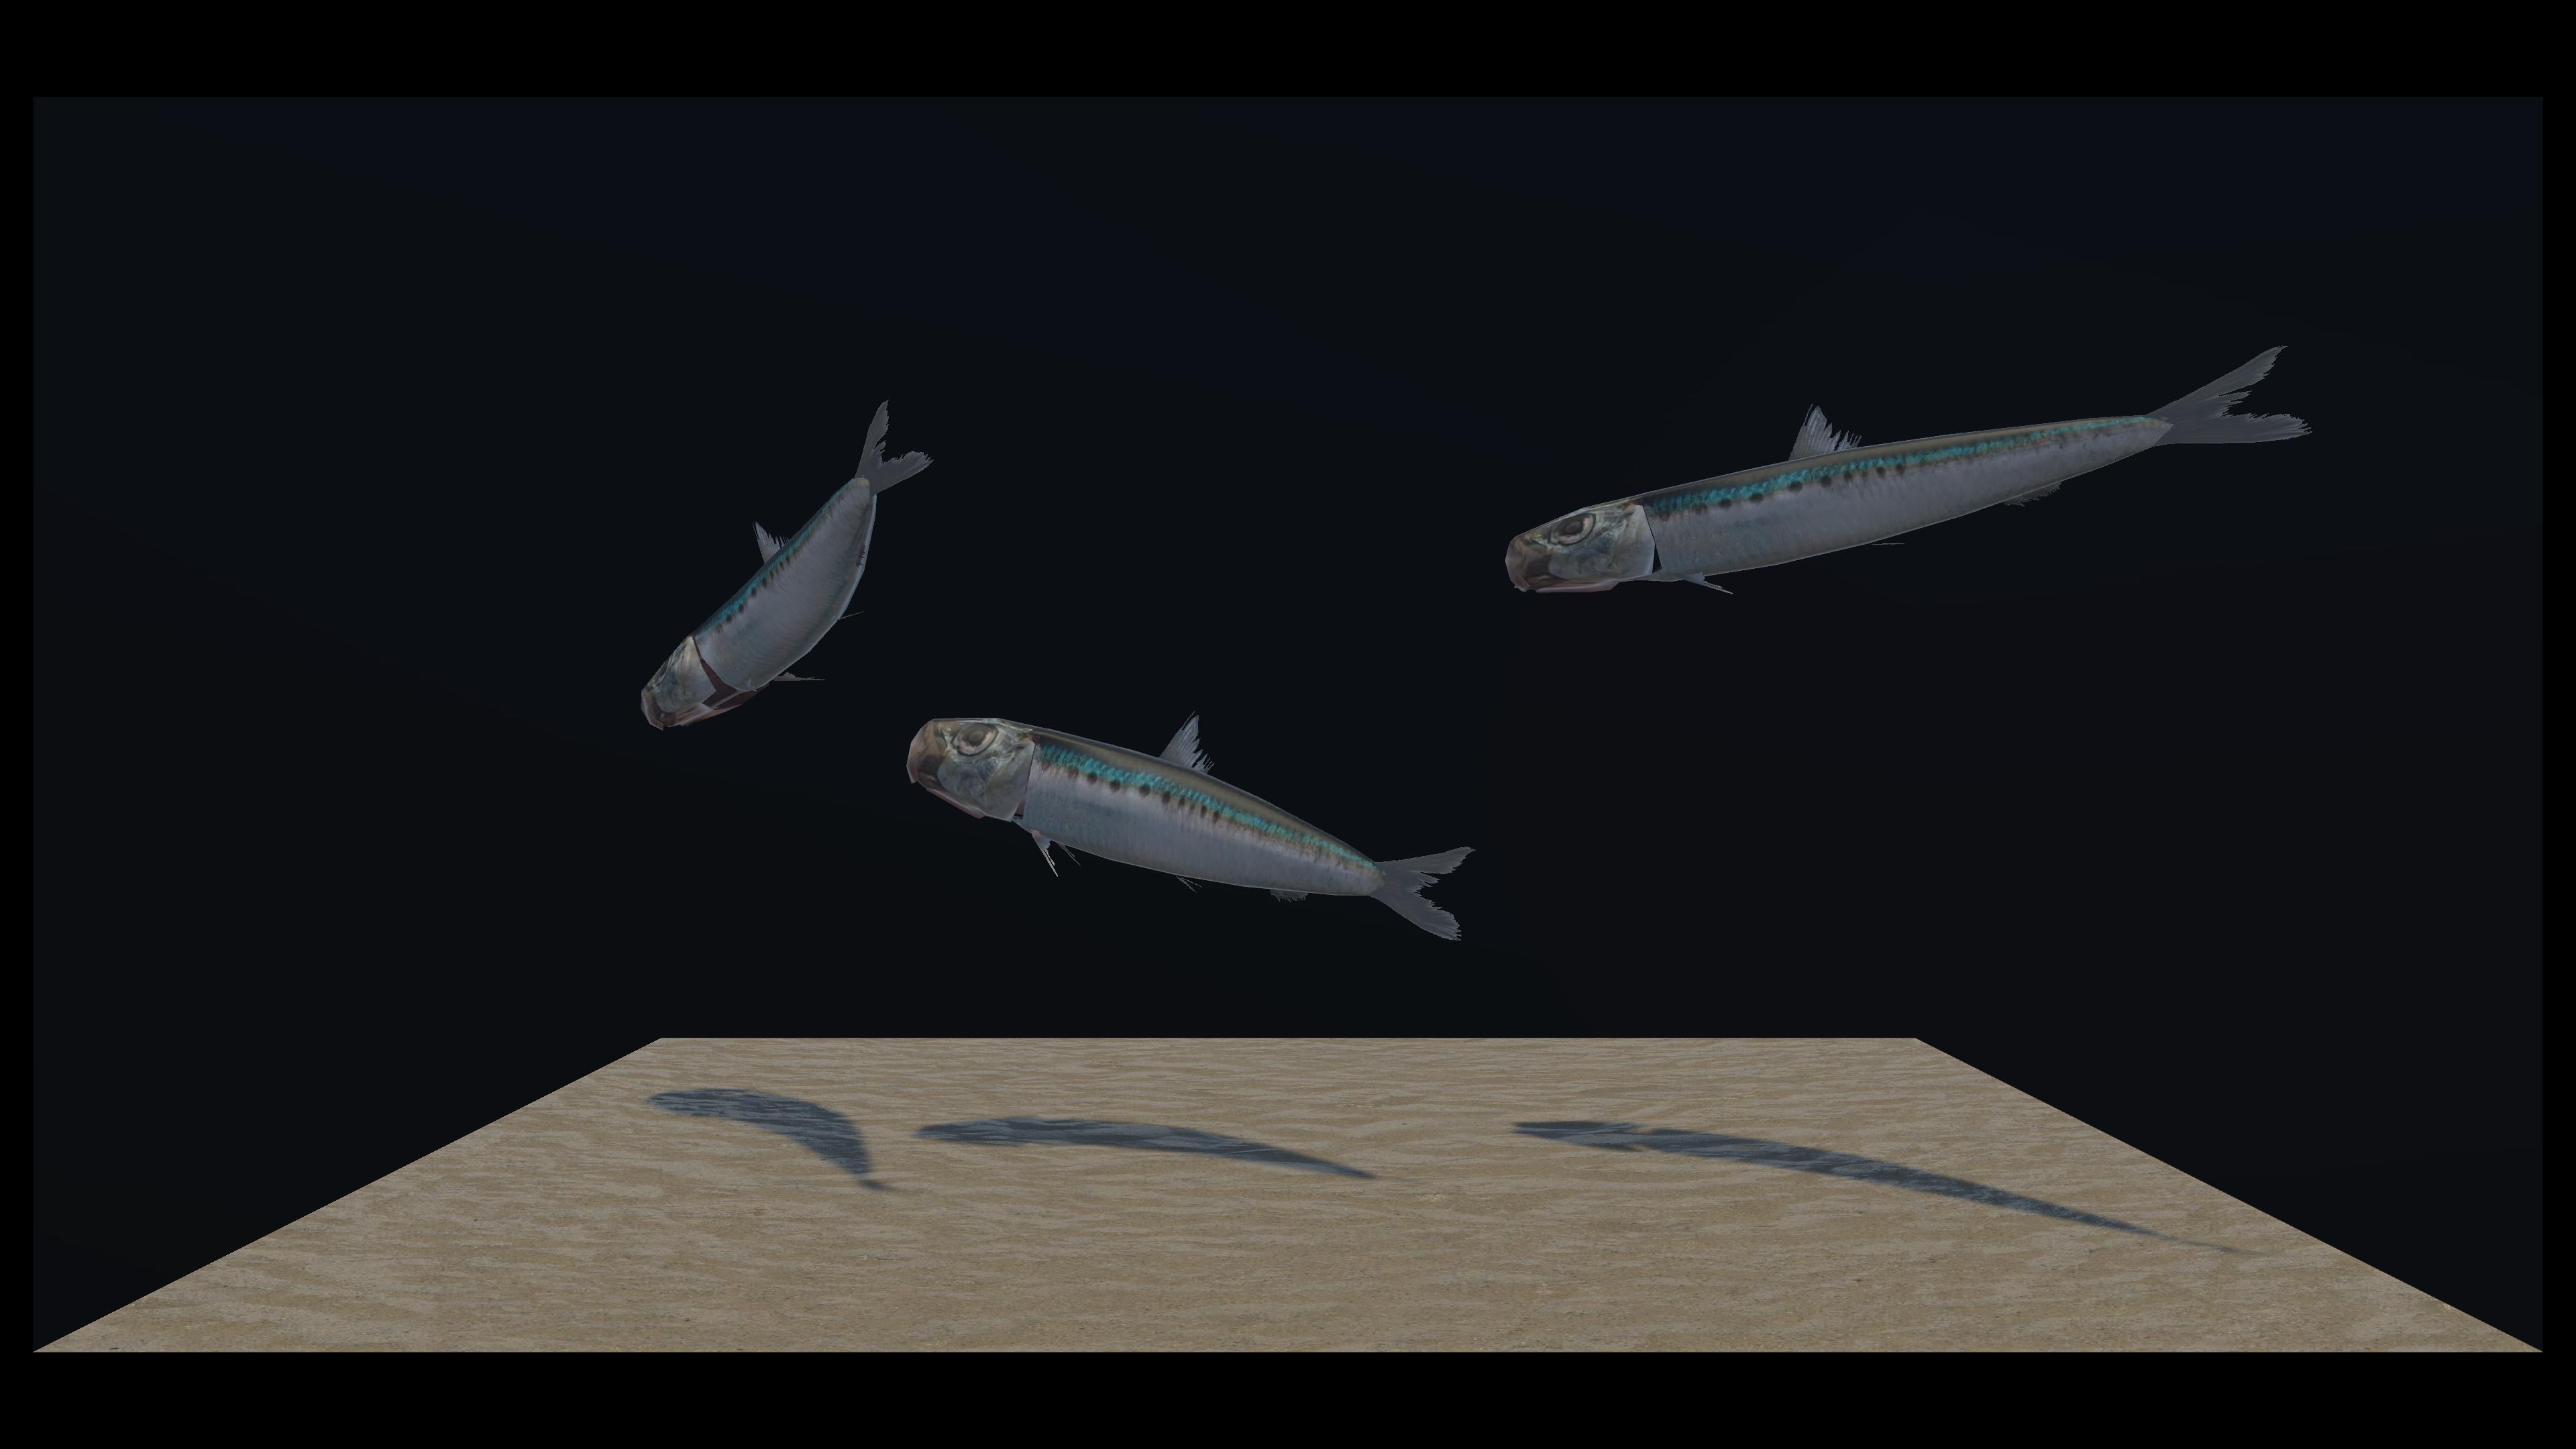Sardine_Front: (717, 426, 1467, 938), (1023, 345, 2293, 605), (651, 396, 934, 699)
